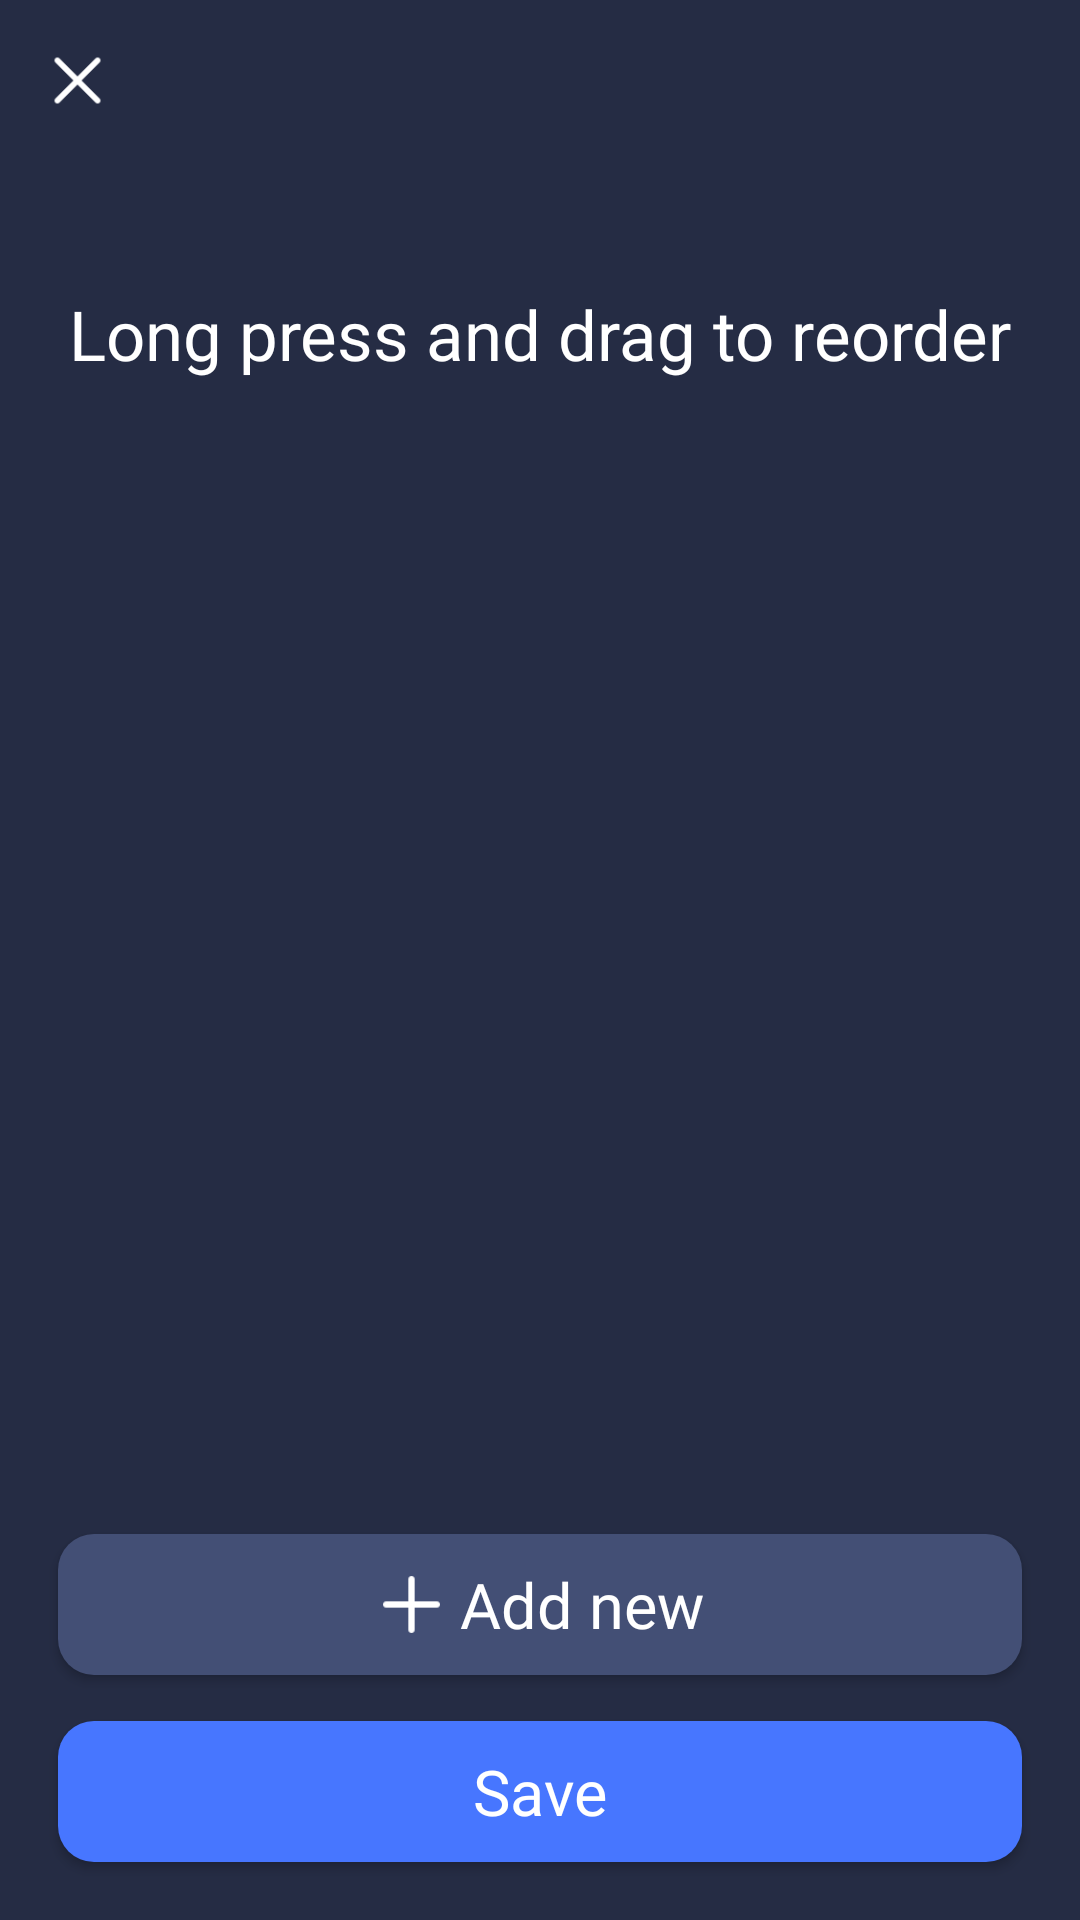

Screen size 1080×1920. Icon name, then its center in pixels as (x=x, y=y):
general close: (x=77, y=80)
